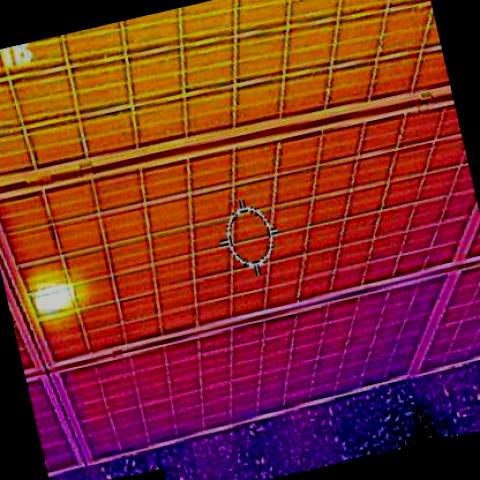fault: (36, 283, 74, 309)
